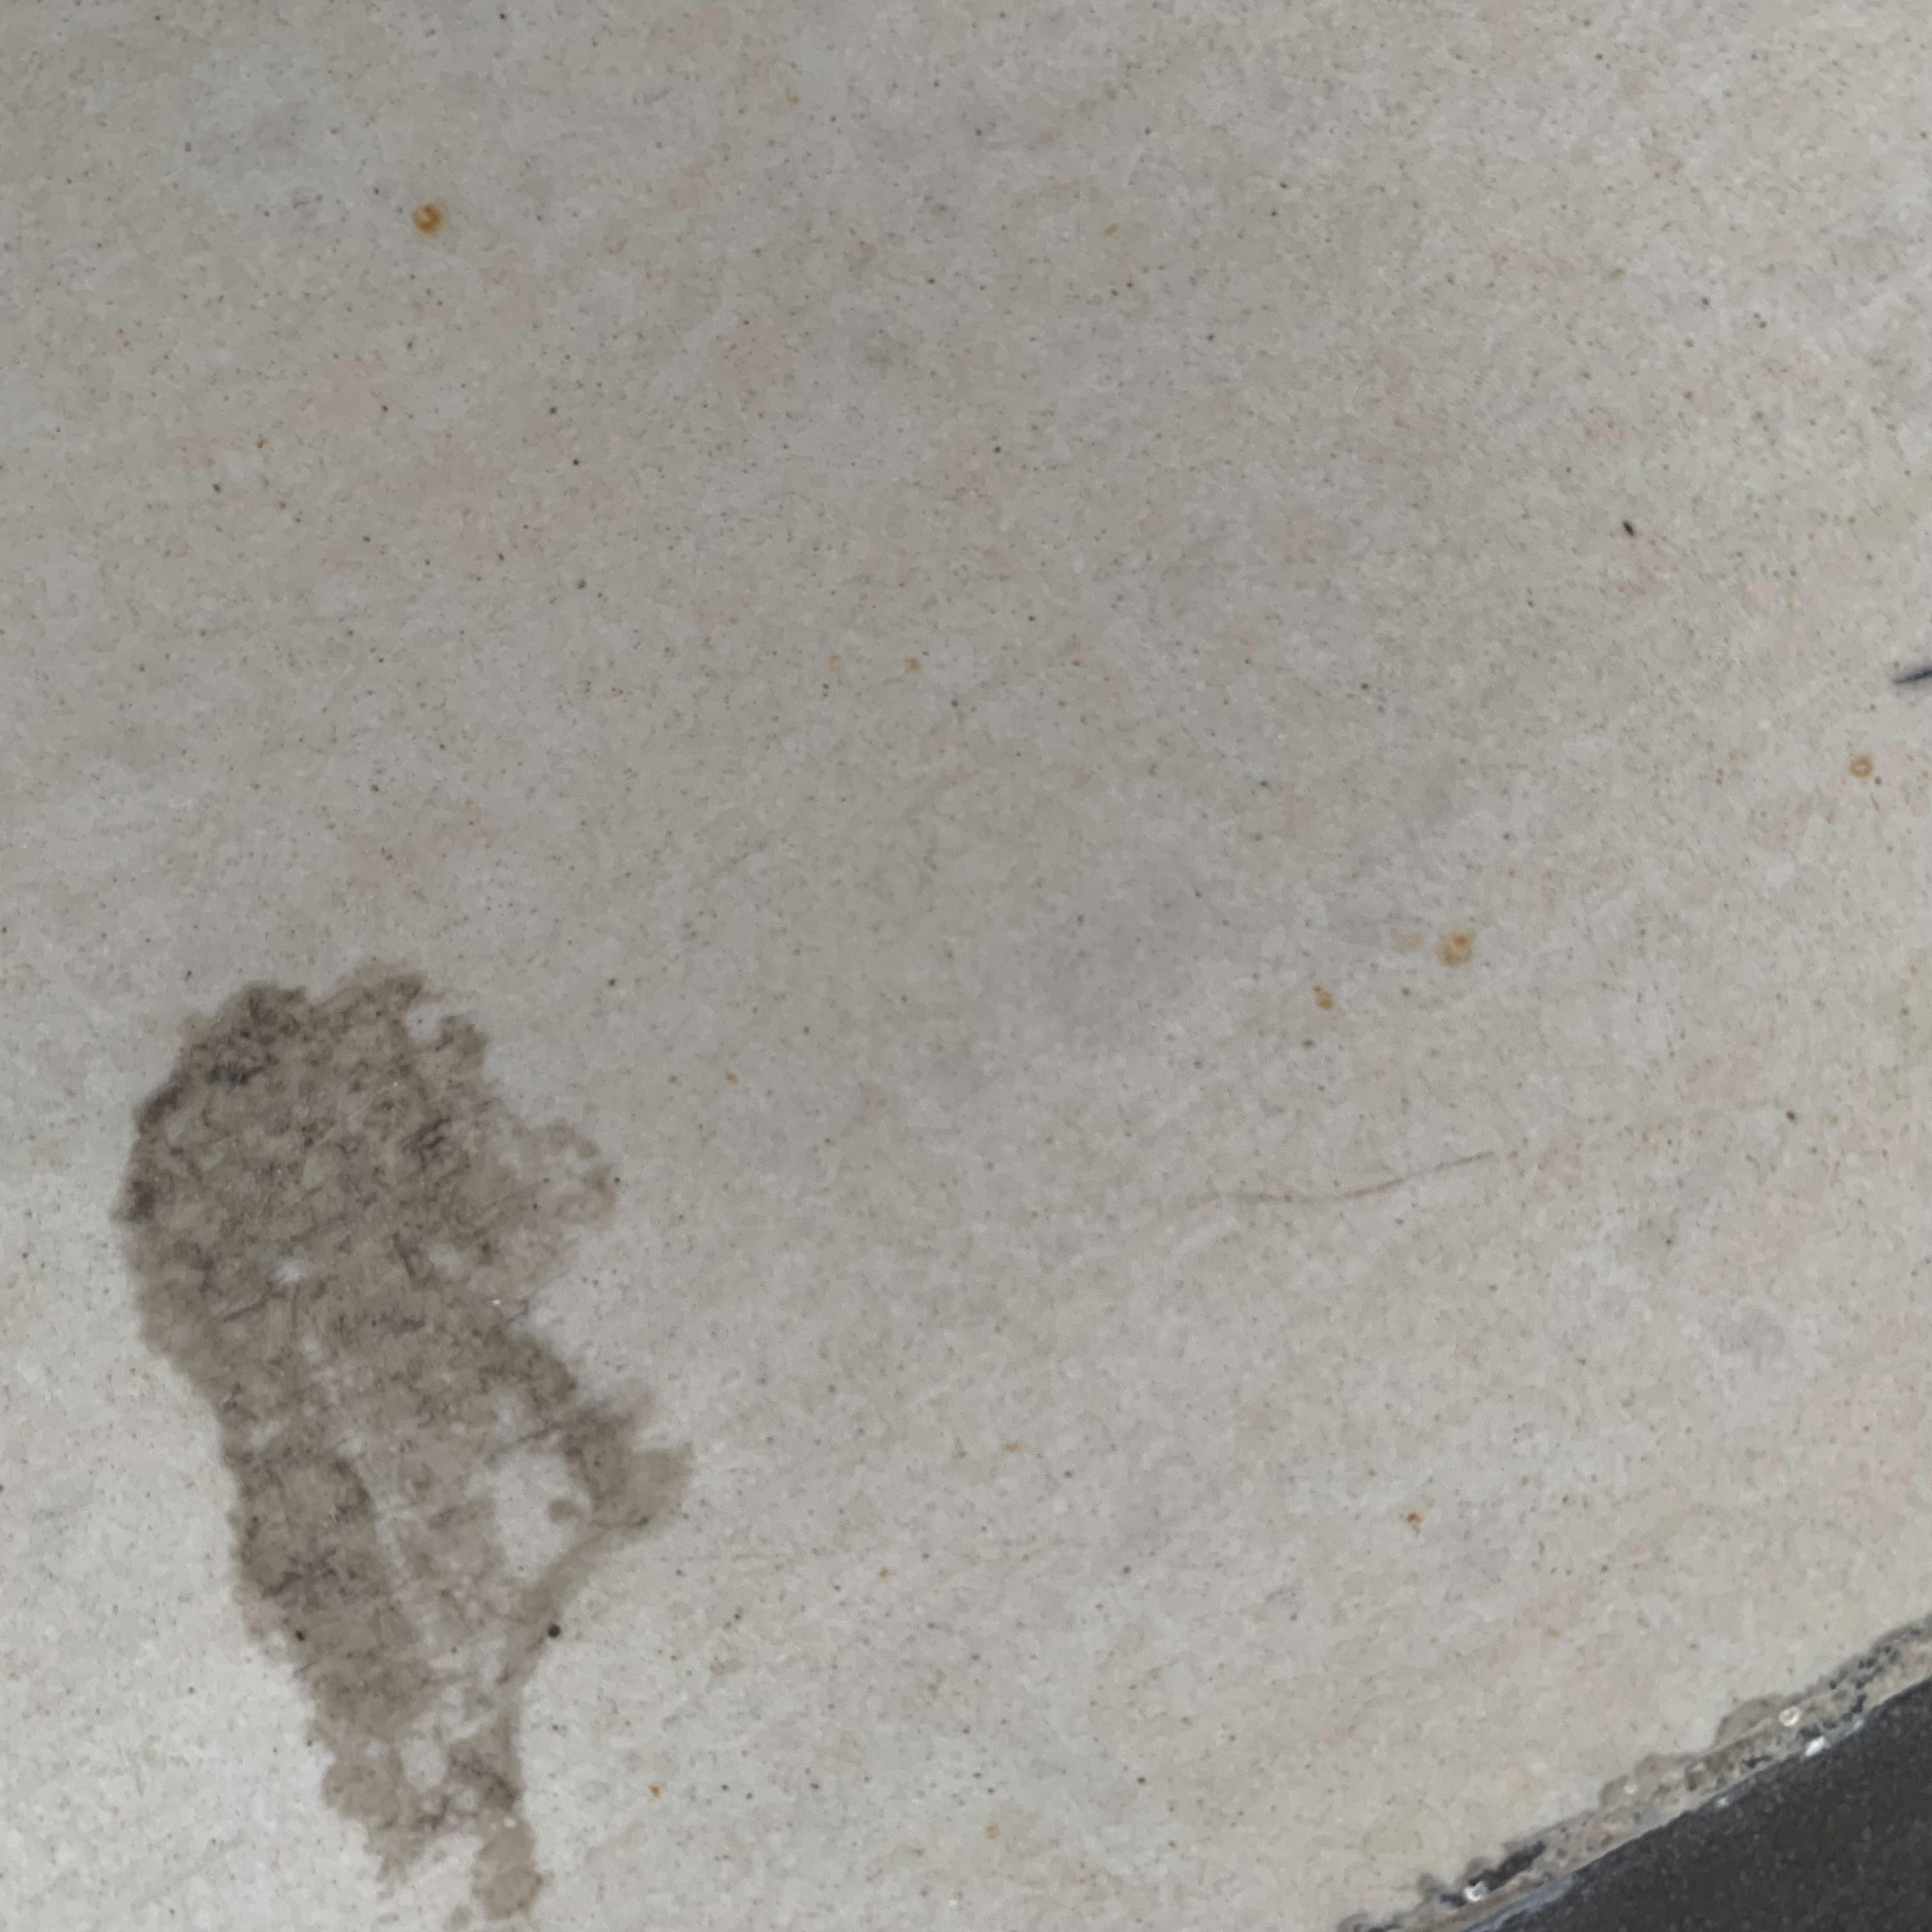grey spot: (113, 964, 692, 1932)
